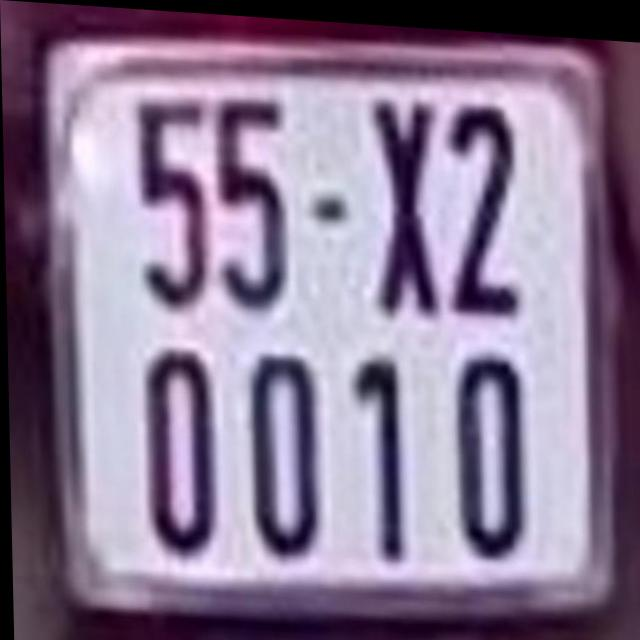0: (142, 340, 216, 549), (247, 343, 320, 547), (454, 342, 524, 549)
1: (350, 335, 412, 554)
2: (443, 89, 520, 312)
5: (213, 88, 293, 314), (136, 92, 208, 310)
X: (367, 88, 441, 307)
